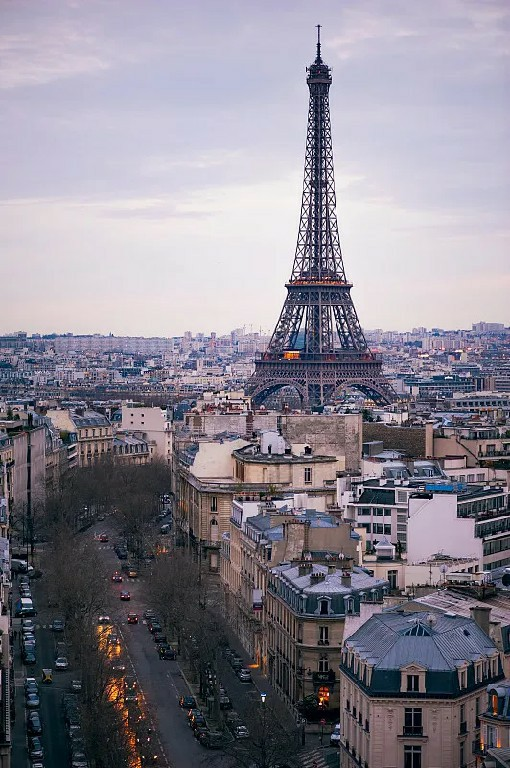Eiffel: (243, 24, 401, 412)
